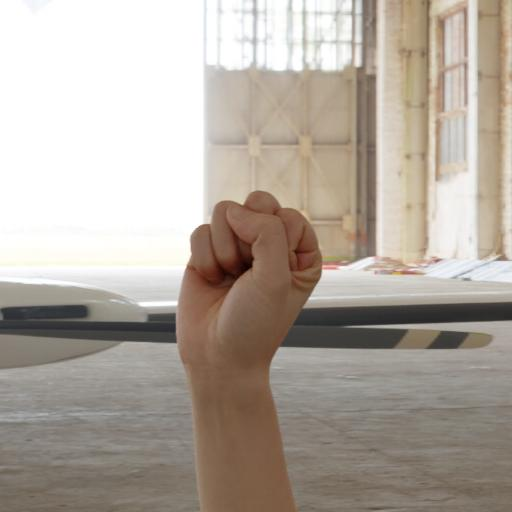S: (162, 186, 337, 472)
